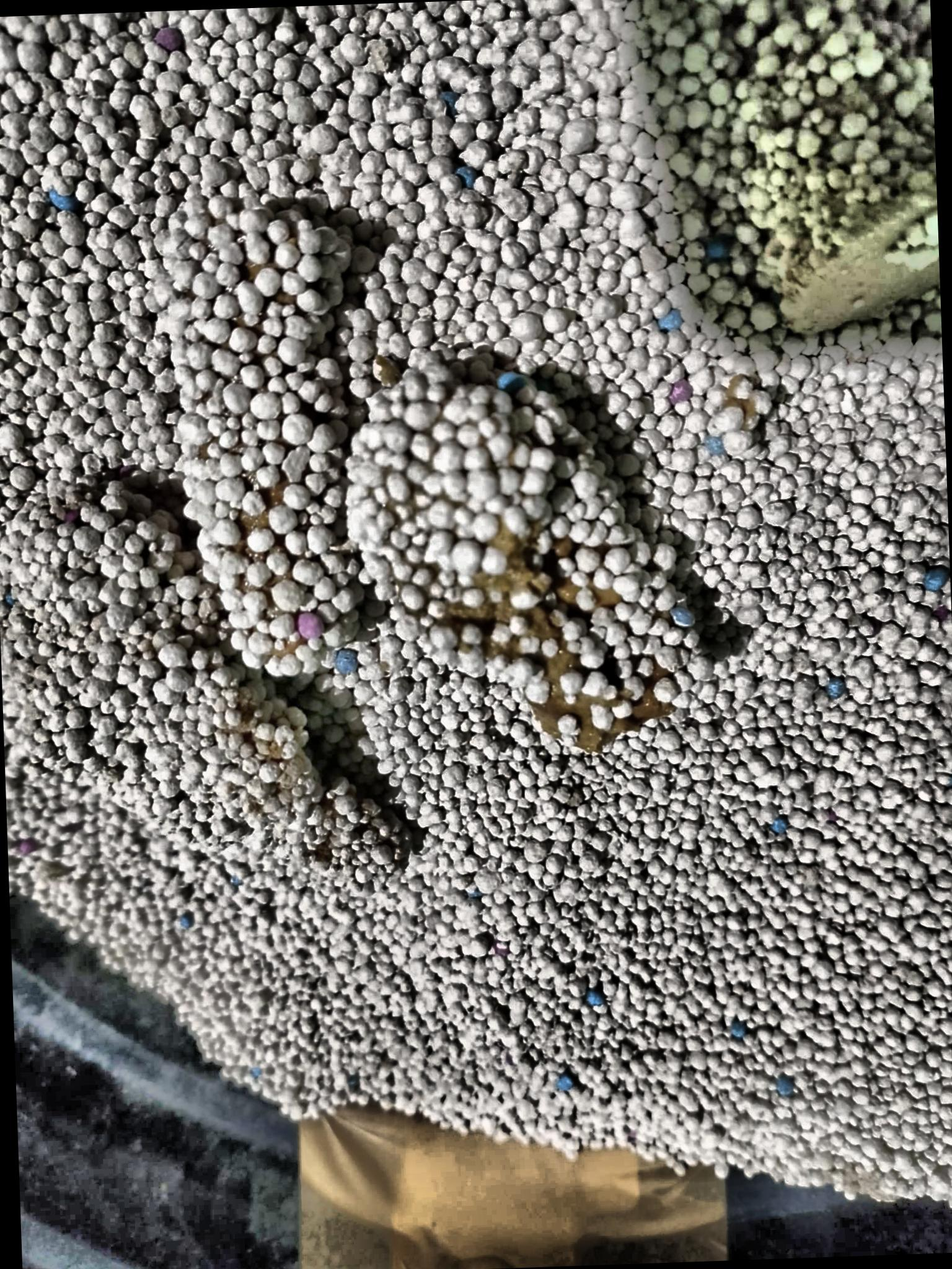litter_sand: (735, 107, 940, 335)
poop: (34, 479, 411, 898), (344, 346, 713, 756), (155, 179, 374, 677)
